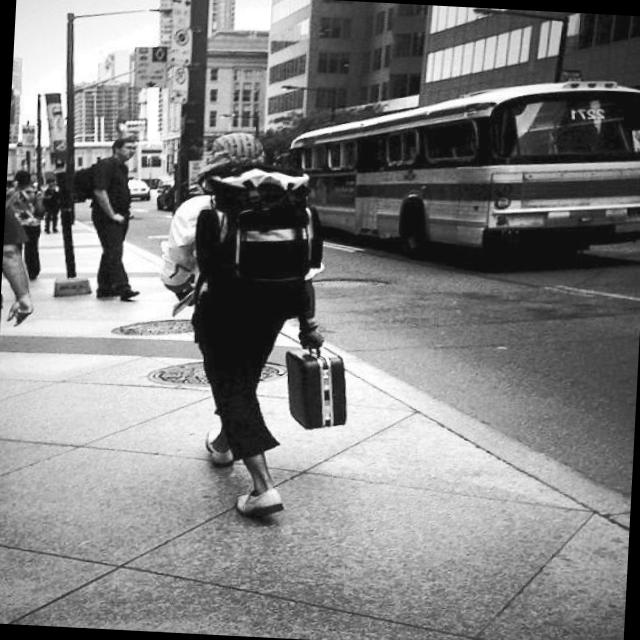Bus: (298, 38, 640, 277)
